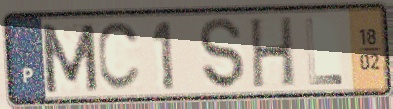1: (151, 19, 176, 92)
C: (95, 19, 144, 94)
H: (249, 13, 297, 91)
L: (303, 16, 346, 88)
M: (38, 21, 102, 96)
S: (197, 16, 248, 91)
